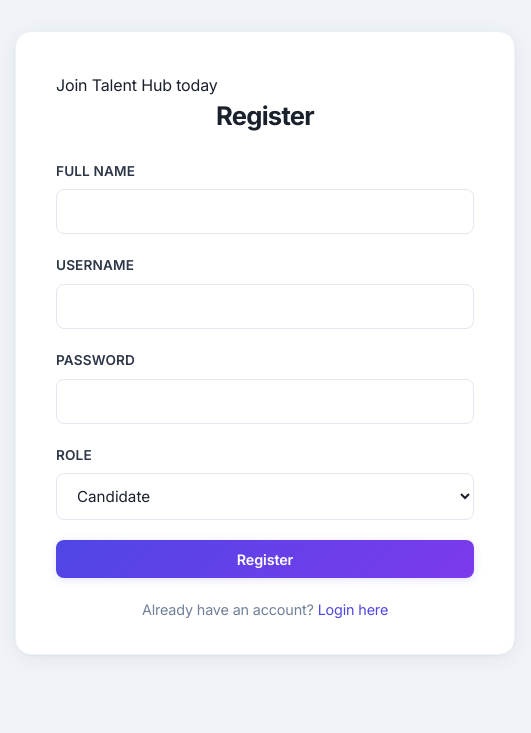
Test: Register › shows error message on registration failure
Type "Alice" into the field labelled "Full Name" at (265, 212), box [56, 189, 474, 234]
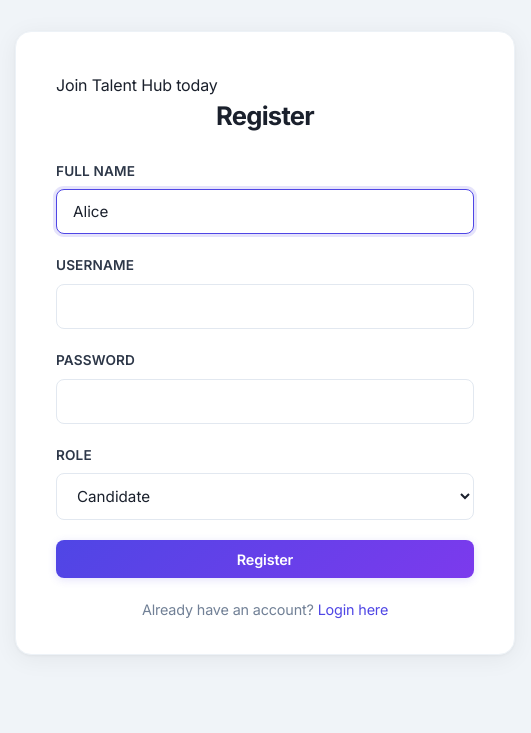
Type "alice" into the field labelled "Username" at (265, 306), box [56, 284, 474, 329]
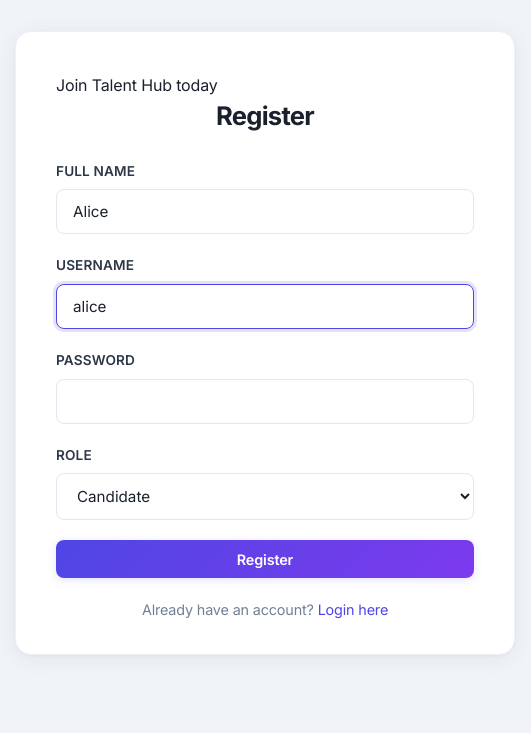
Type "password" into the password field labelled "Password" at (265, 401), box [56, 379, 474, 424]
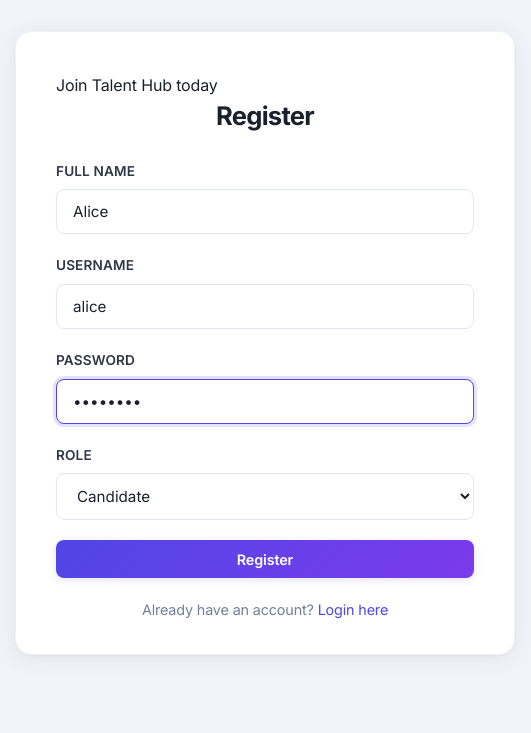
Click the button "Register" at (265, 559), box [56, 540, 474, 578]
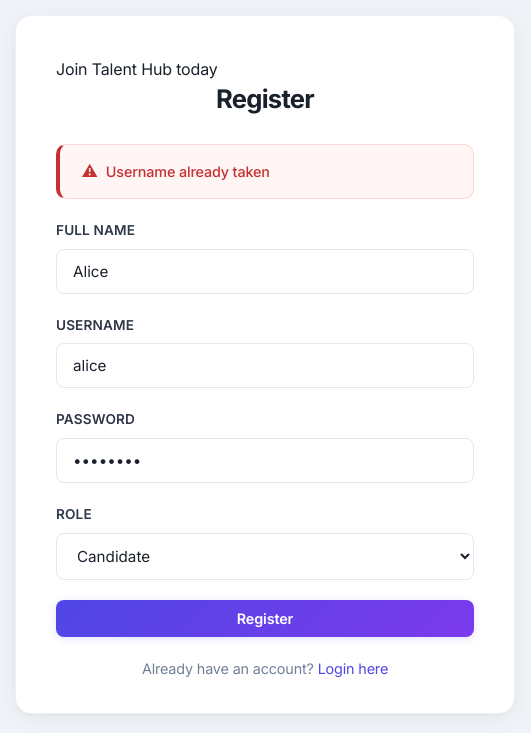
expect the text "Username already taken" is shown: met, box [56, 144, 474, 199]
